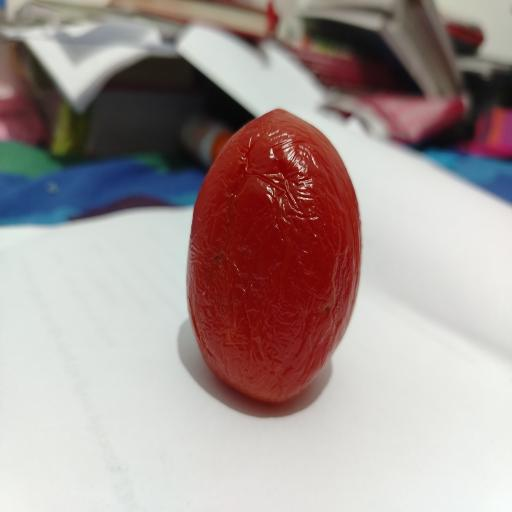spoiled: (187, 110, 361, 402)
